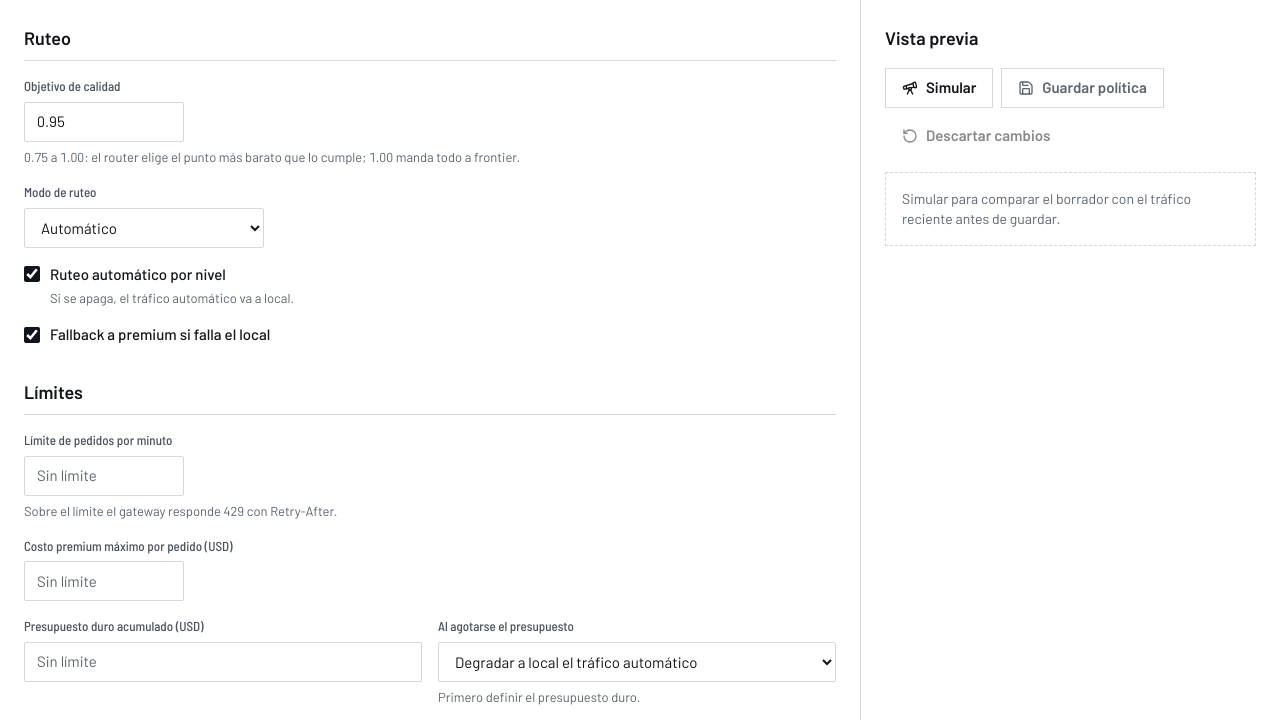
policy-form › shows and clears dirty state with Reset changes
Select "Solo premium" in the dropdown labelled "Modo de ruteo" at (144, 228), box [24,208,264,248]
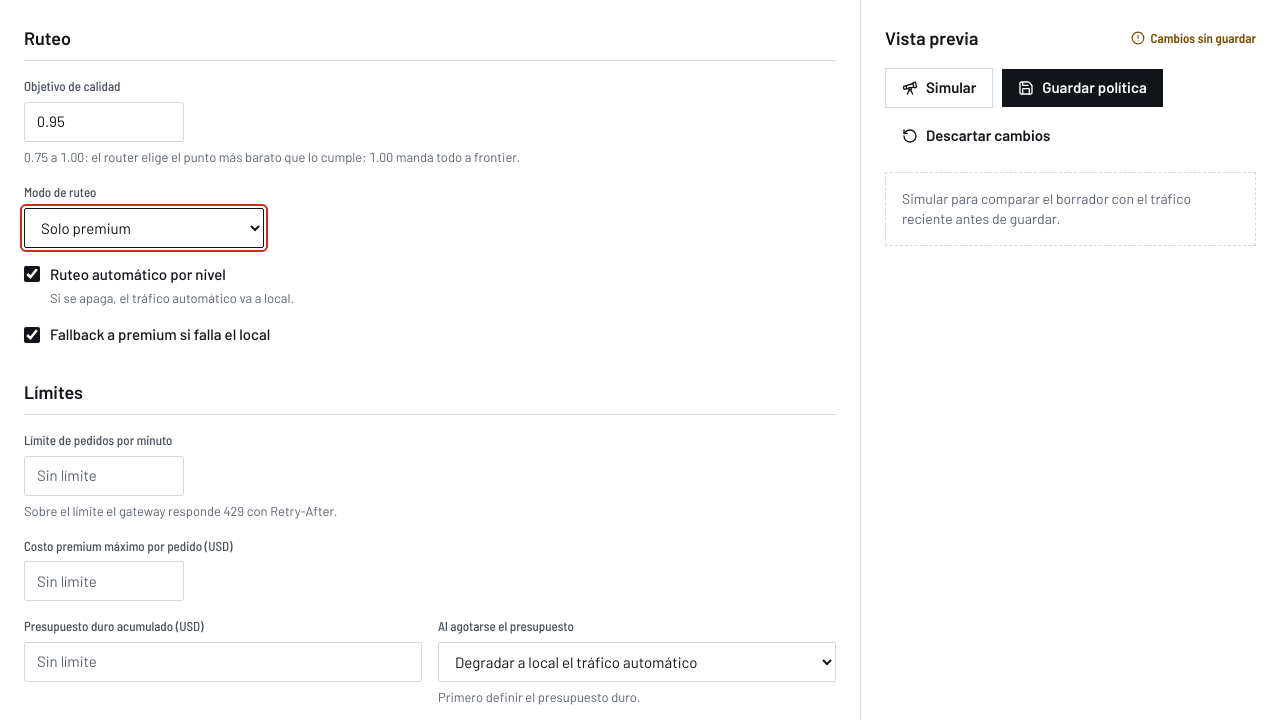
Expected: the text "Cambios sin guardar" is shown, [1131,29,1256,47]
Click the button "Descartar cambios".
click(976, 136)  # box [885,116,1068,156]
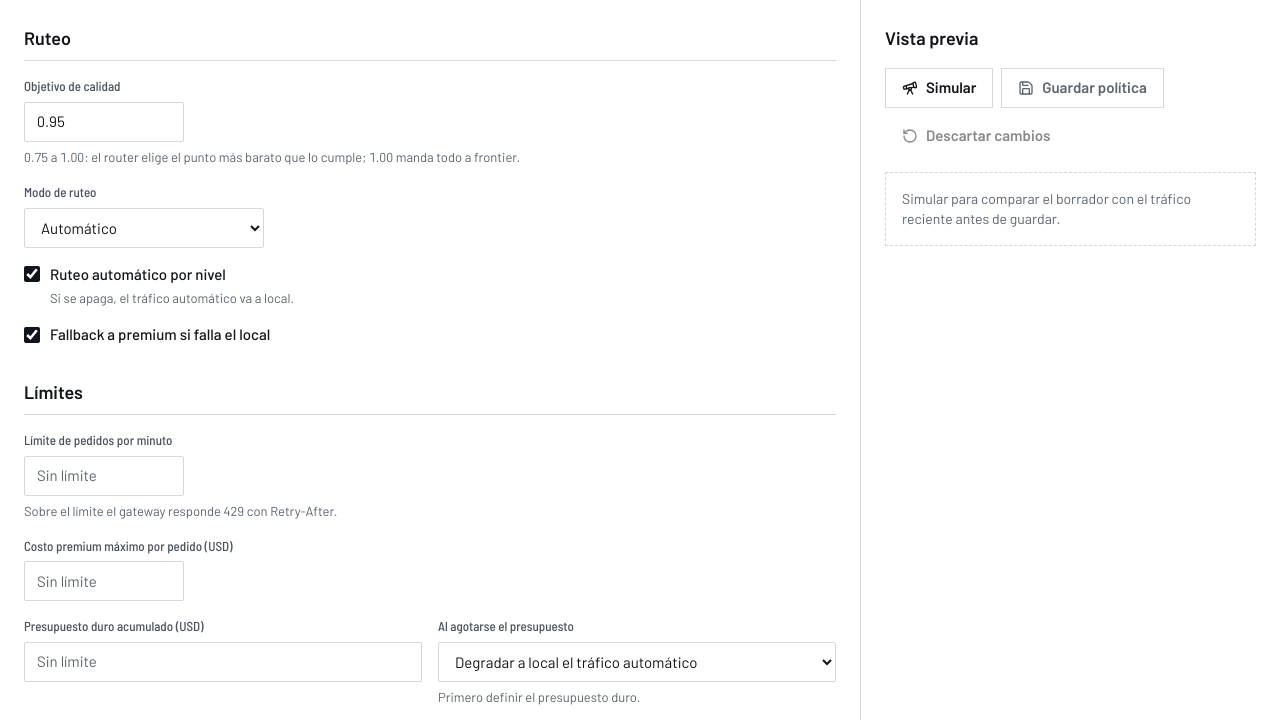
Expected: the text "Cambios sin guardar" is gone
